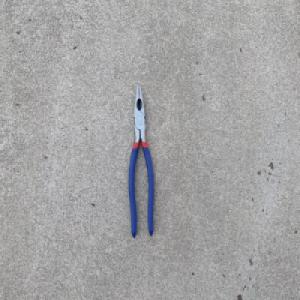Pliers: (127, 84, 154, 240)
